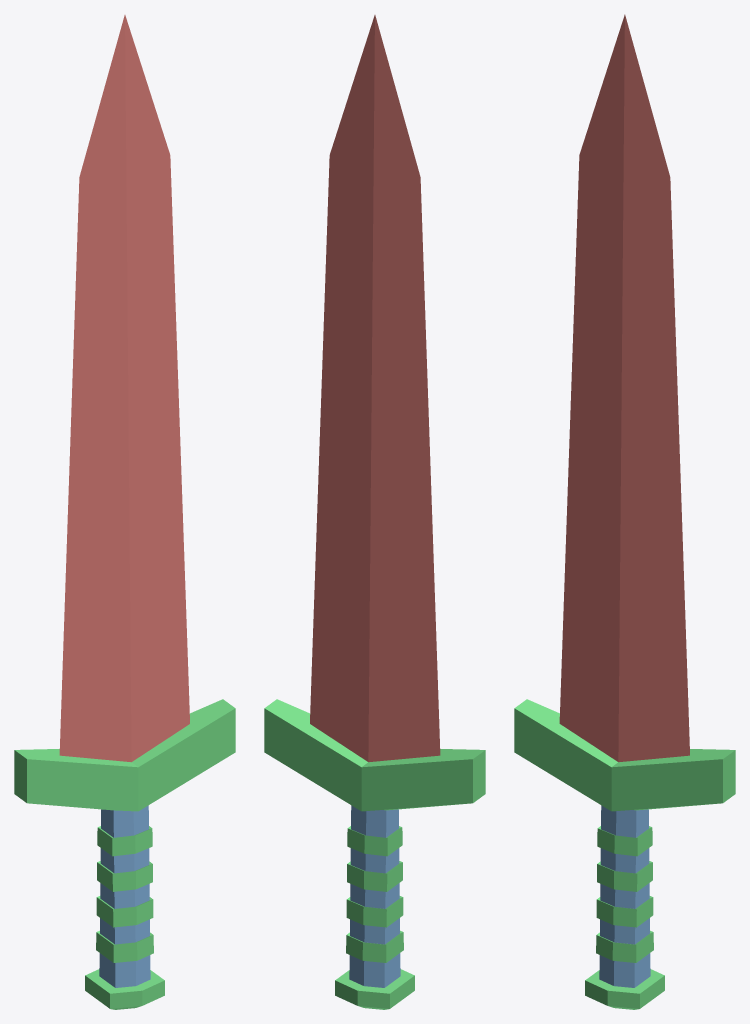
Rendered from Blockout_Sword_2.fbx.
The picture shows the model from 3 angles, left to right: view 1: azimuth 30°, elevation 25°; view 2: azimuth 150°, elevation 25°; view 3: azimuth 330°, elevation 25°; orthographic projection.
Visible parts, largest first — view 1: Cube.002; view 2: Cube.002; view 3: Cube.002.
Boxes of the visible parts, left/top/right/bottom form: Cube.002: left=14, top=15, right=235, bottom=1009; Cube.002: left=264, top=15, right=485, bottom=1009; Cube.002: left=514, top=14, right=735, bottom=1009.
Size of the model in its own units: 63.99 by 289 by 18.52.
